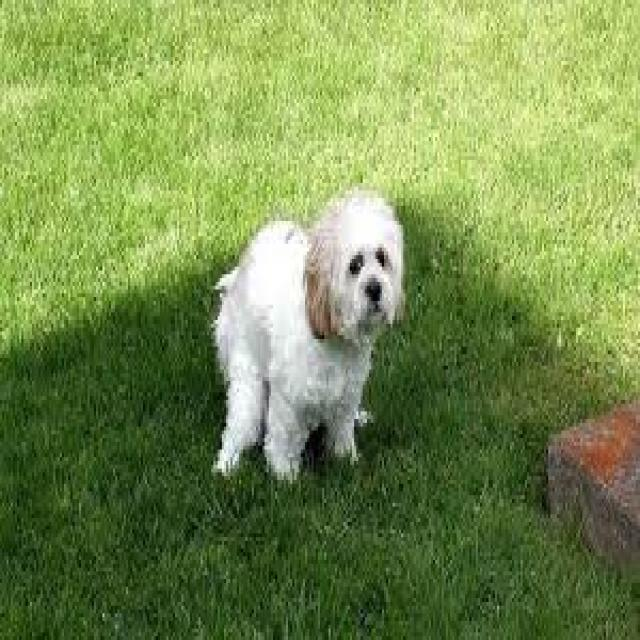Dogpoop: (212, 186, 404, 487)
